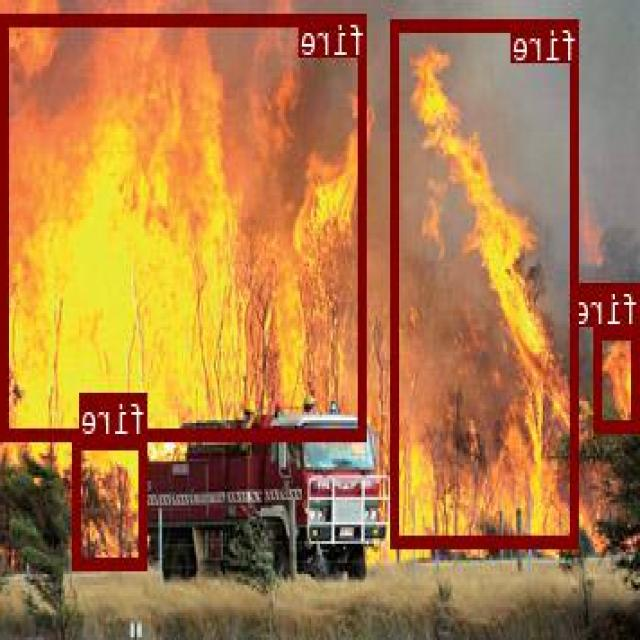fire: (4, 11, 368, 436), (392, 17, 580, 544), (75, 437, 148, 568), (595, 324, 640, 429)
